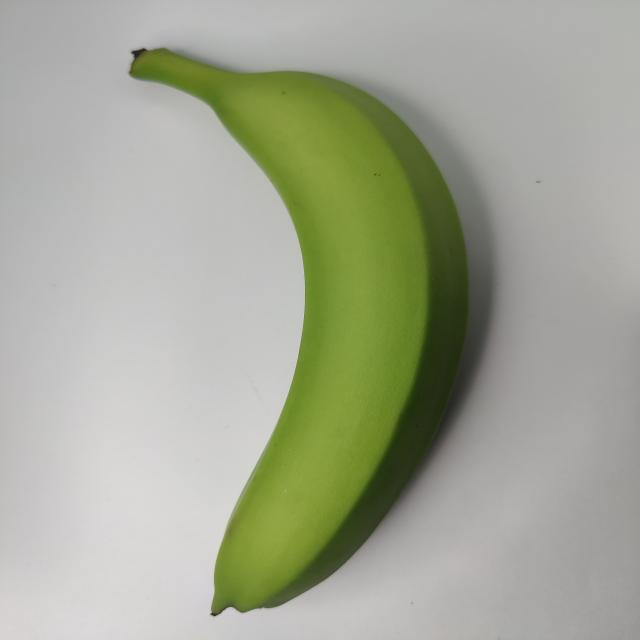raw: (81, 31, 484, 630)
